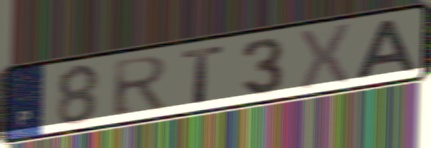3: (239, 37, 288, 96)
8: (55, 63, 102, 128)
A: (352, 17, 419, 82)
R: (110, 53, 172, 119)
T: (179, 43, 226, 106)
X: (298, 20, 354, 93)
